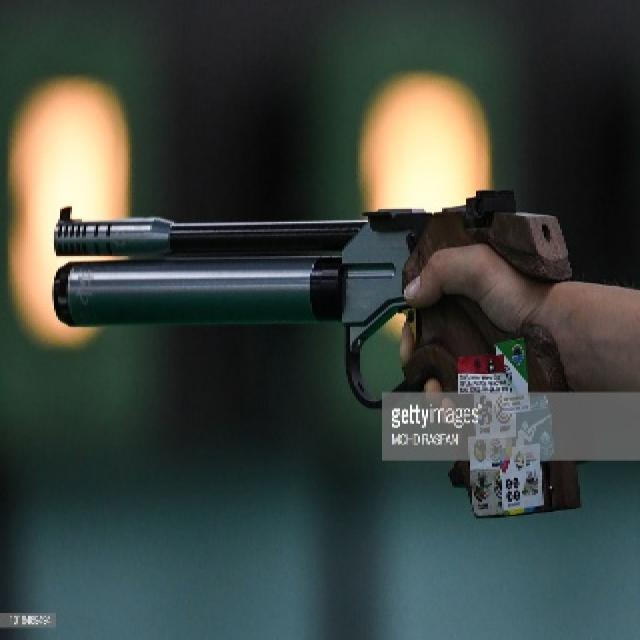handgun: (44, 189, 584, 514)
